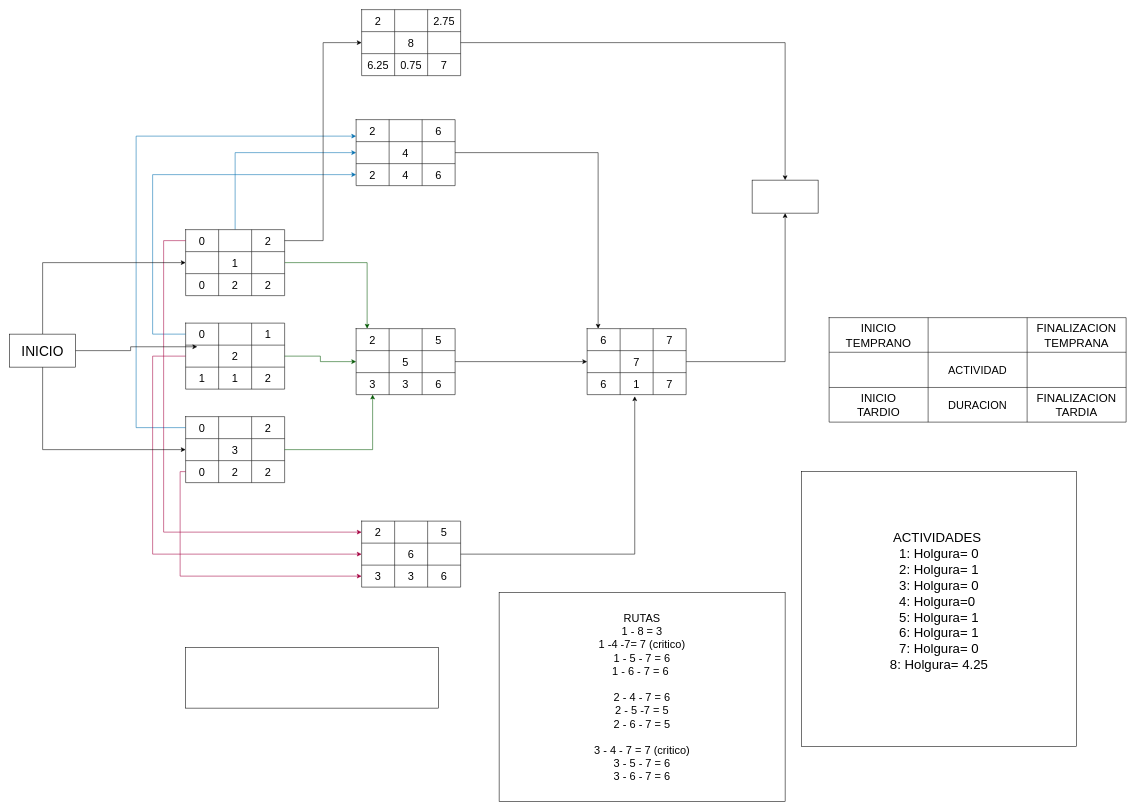
The diagram is 1136 pixels wide and 811 high, and some of its shapes have lost their labels. The centre of each missing label's shape, as x and y in pixels:
"DURACION TOTAL DEL PROYECTO: 7 dias" belongs at pixel 312 677.
"FIN" belongs at pixel 785 196.
